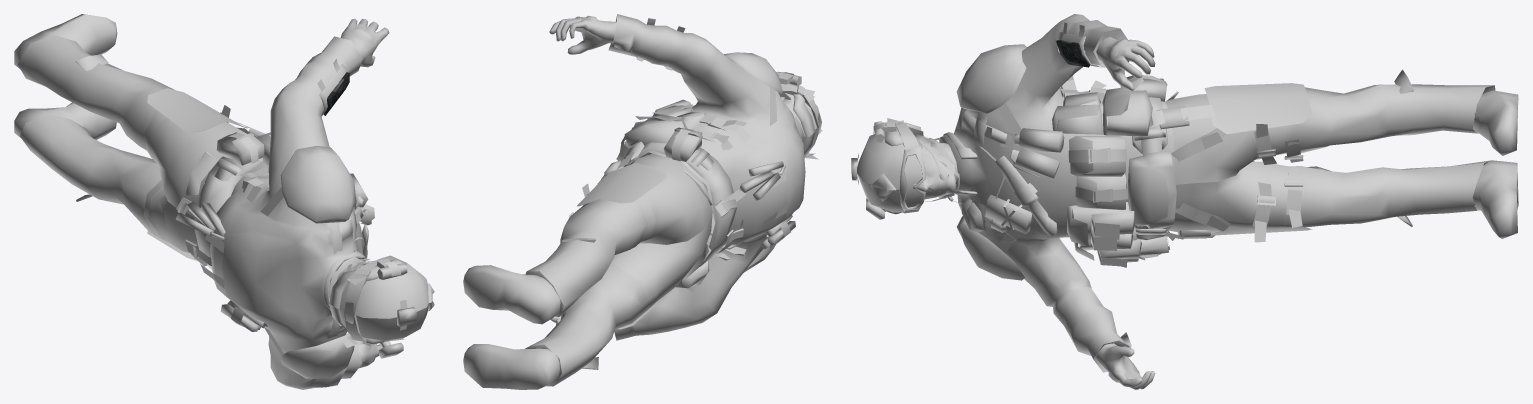
The model's file is c_mul_mp_pmc_lmg_fb_LOD1.obj.
3 views of the same model, side by side, from view 1: azimuth 30°, elevation 25°; view 2: azimuth 150°, elevation 25°; view 3: azimuth 270°, elevation 25° (orthographic). The views are drawn at different scales.
Visible parts, largest first — view 1: mtl_c_mul_mp_pmc_upperbody1, mtl_c_mul_mp_pmc_lbr_2_1, mtl_c_mul_mp_pmc_gear_main_1, mtl_c_mul_mp_pmc_lmg_gear, mtl_c_mul_mp_pmc_helmet1, mtl_c_mul_mp_pmc_gloves3, mtl_c_gen_mp_datapad; view 2: mtl_c_mul_mp_pmc_upperbody1, mtl_c_mul_mp_pmc_lbr_2_1, mtl_c_mul_mp_pmc_gear_main_1, mtl_c_mul_mp_pmc_lmg_gear, mtl_c_mul_mp_pmc_helmet1, mtl_c_mul_mp_pmc_gloves3; view 3: mtl_c_mul_mp_pmc_lbr_2_1, mtl_c_mul_mp_pmc_gear_main_1, mtl_c_mul_mp_pmc_upperbody1, mtl_c_mul_mp_pmc_lmg_gear, mtl_c_mul_mp_pmc_helmet1, mtl_c_mul_mp_pmc_gloves3, mtl_c_mul_mp_pmc_head_1, mtl_c_mul_mp_pmc_glasses, mtl_c_gen_mp_datapad.
Part boxes in pixels (x1,y1,x2,y2): mtl_c_mul_mp_pmc_upperbody1: (176,36,366,389); mtl_c_mul_mp_pmc_lbr_2_1: (17,35,256,266); mtl_c_mul_mp_pmc_gear_main_1: (14,14,374,331); mtl_c_mul_mp_pmc_lmg_gear: (216,132,356,378); mtl_c_mul_mp_pmc_helmet1: (329,255,434,358); mtl_c_mul_mp_pmc_gloves3: (341,18,389,368); mtl_c_gen_mp_datapad: (323,72,349,115); mtl_c_mul_mp_pmc_upperbody1: (608,14,805,340); mtl_c_mul_mp_pmc_lbr_2_1: (525,153,712,386); mtl_c_mul_mp_pmc_gear_main_1: (463,99,795,389); mtl_c_mul_mp_pmc_lmg_gear: (601,52,782,288); mtl_c_mul_mp_pmc_helmet1: (776,72,822,159); mtl_c_mul_mp_pmc_gloves3: (549,15,616,324); mtl_c_mul_mp_pmc_lbr_2_1: (1165,69,1495,242); mtl_c_mul_mp_pmc_gear_main_1: (943,83,1518,267); mtl_c_mul_mp_pmc_upperbody1: (939,14,1175,372); mtl_c_mul_mp_pmc_lmg_gear: (956,44,1176,280); mtl_c_mul_mp_pmc_helmet1: (851,118,959,219); mtl_c_mul_mp_pmc_gloves3: (1095,37,1155,389); mtl_c_mul_mp_pmc_head_1: (899,133,957,199); mtl_c_mul_mp_pmc_glasses: (904,155,922,207); mtl_c_gen_mp_datapad: (1056,40,1089,67).
Bounding box in the file's own units: 70.5 × 105 × 186.
